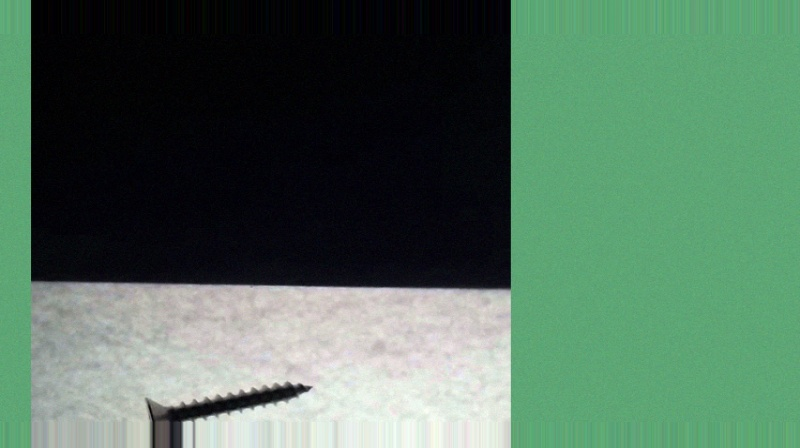S001: (140, 380, 316, 445)
